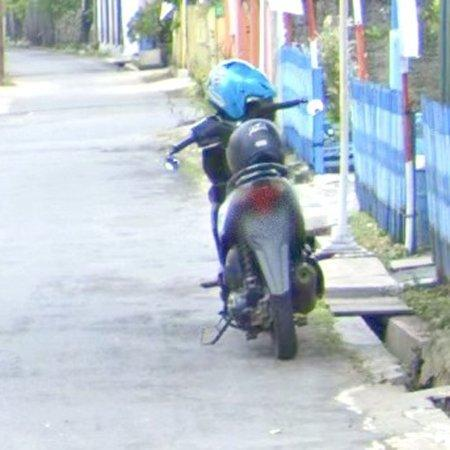motorcycles: (166, 60, 324, 360)
